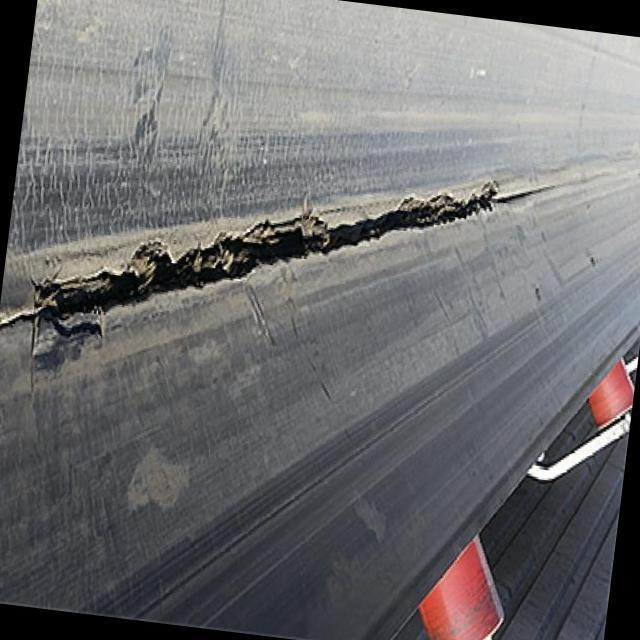Tear: (0, 176, 562, 354)
